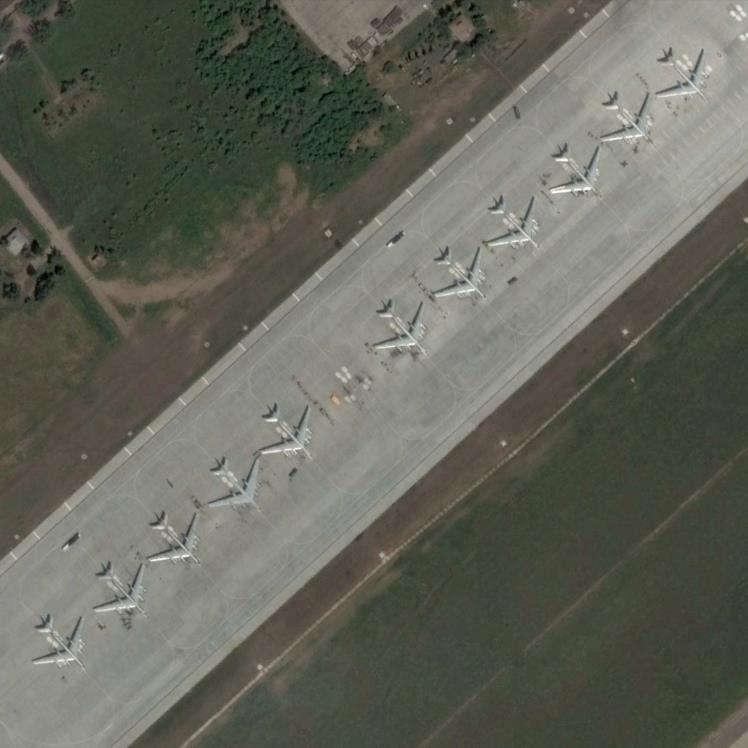A17: (256, 402, 316, 463), (30, 614, 88, 674), (205, 457, 263, 516), (90, 560, 148, 619), (482, 194, 540, 252), (371, 299, 428, 358), (595, 90, 652, 148), (429, 246, 486, 303), (145, 509, 202, 566), (652, 46, 708, 104), (547, 145, 601, 201)
